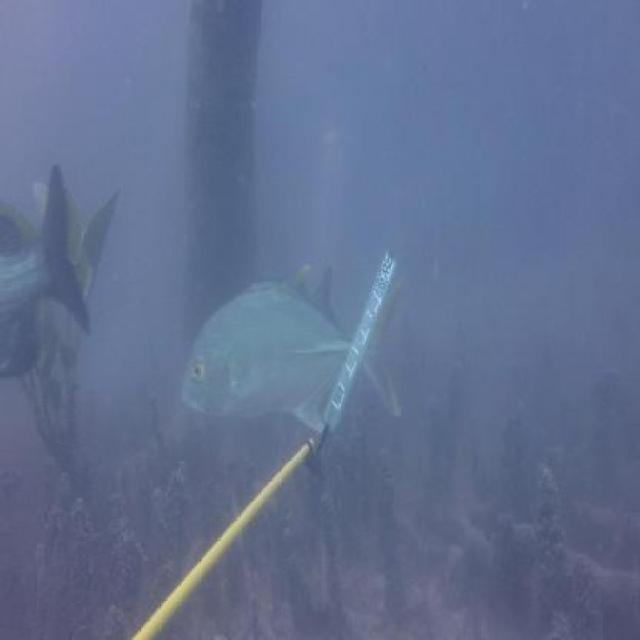Caranx: (180, 272, 409, 436)
acanthopagrus_palmaris: (0, 160, 95, 382), (247, 272, 285, 296)
